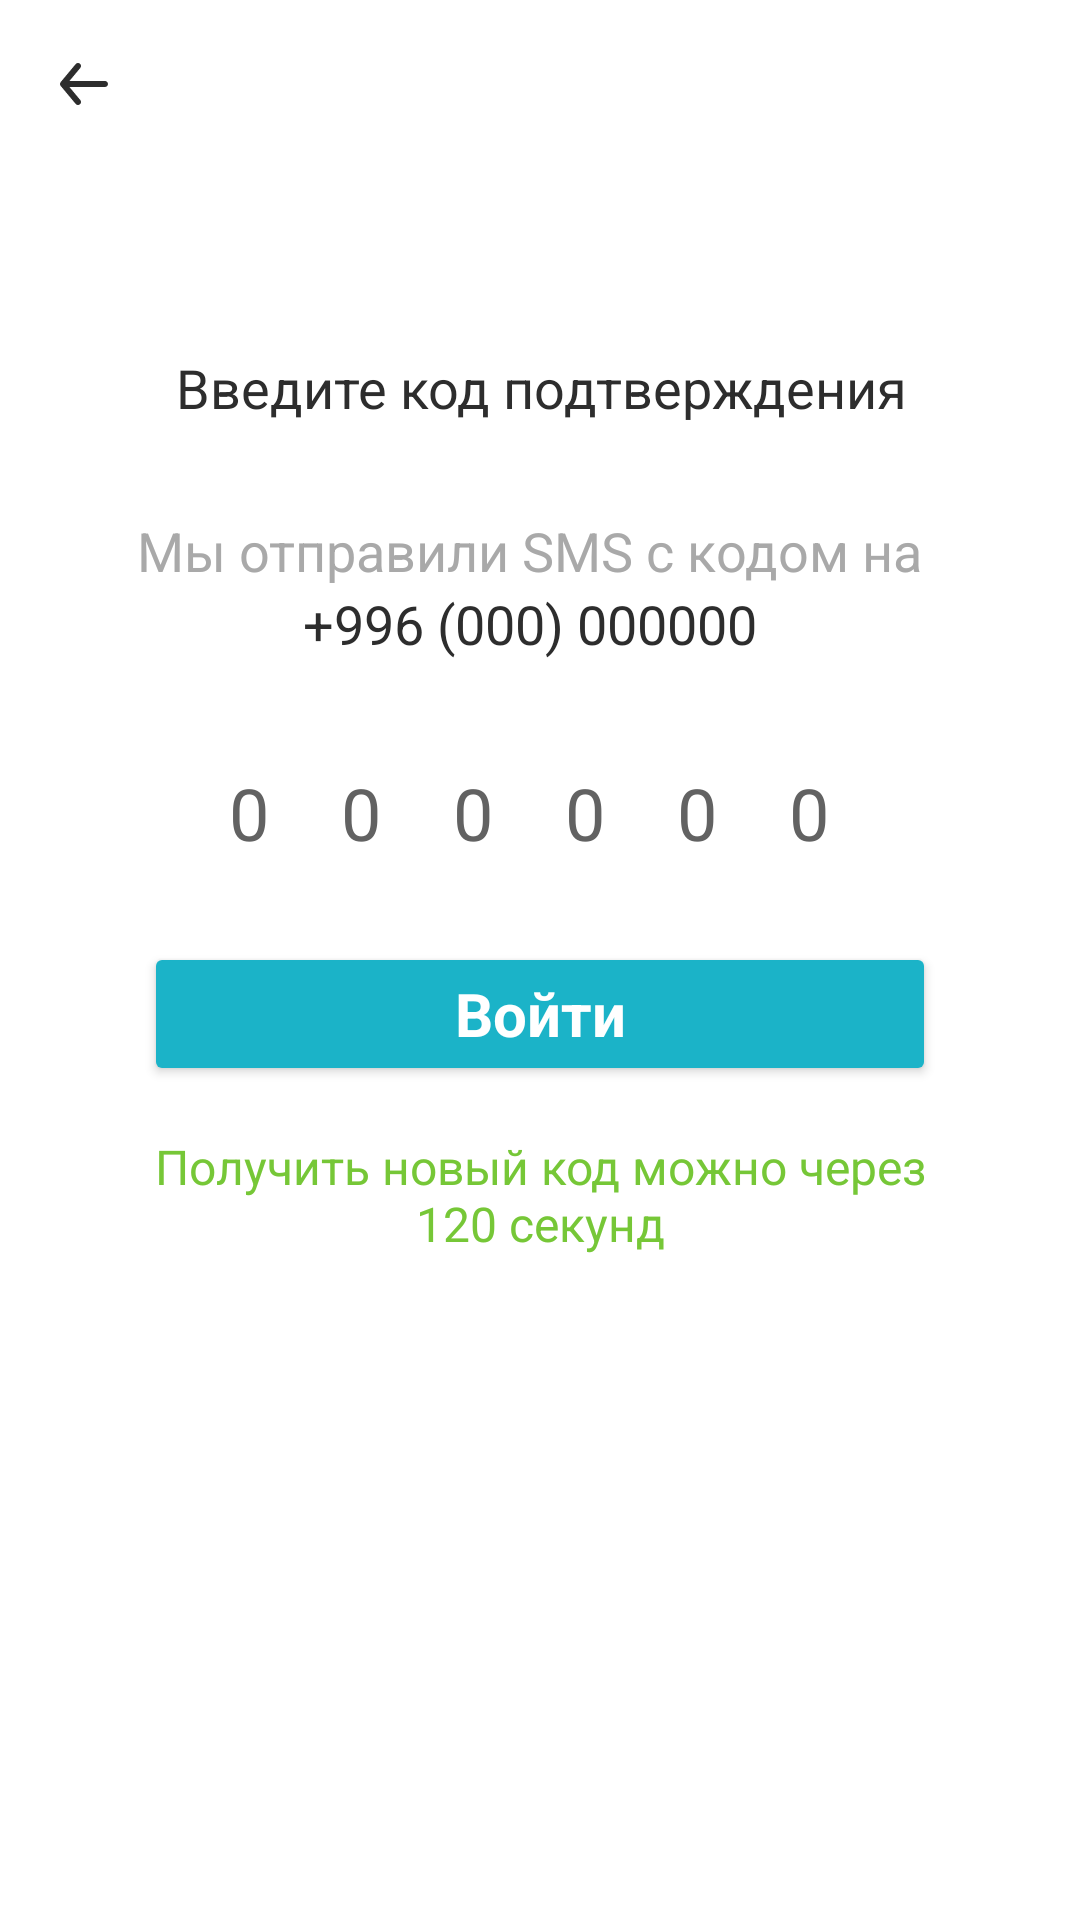

Screen size 1080w x 1920h. Icon name, then its box in pixels as BBox(x1, y1, x2, y2):
arrow: BBox(60, 63, 108, 105)
